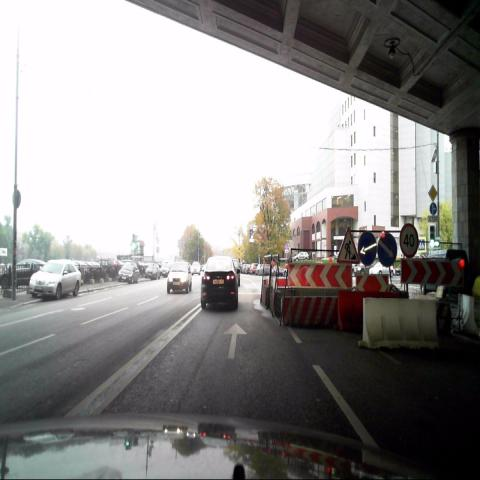4_2_2: (358, 229, 377, 266)
